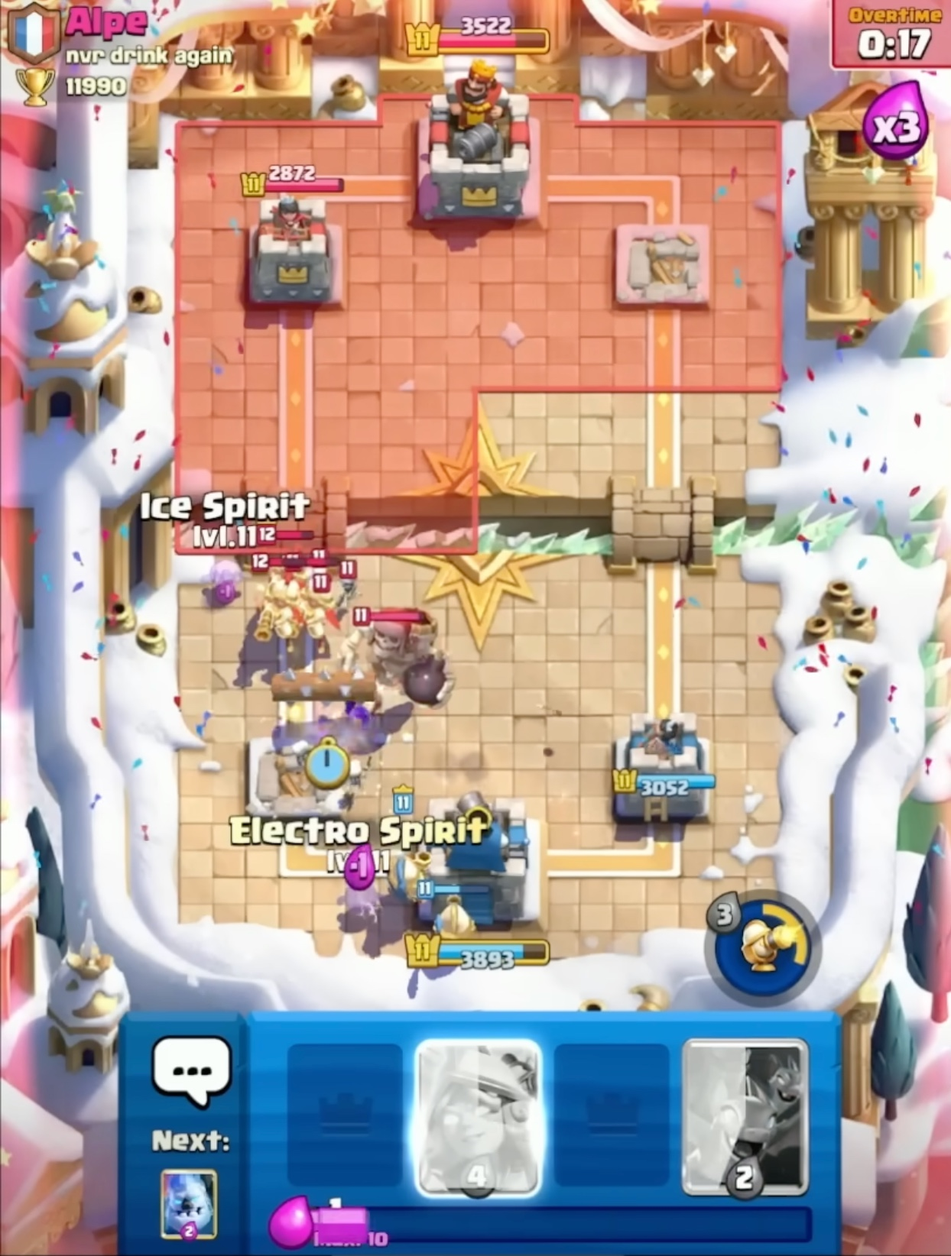giant-skeleton: (334, 602, 461, 740)
hero-musketeer: (248, 553, 306, 647), (303, 566, 341, 655)
skeleton: (335, 556, 367, 601)
